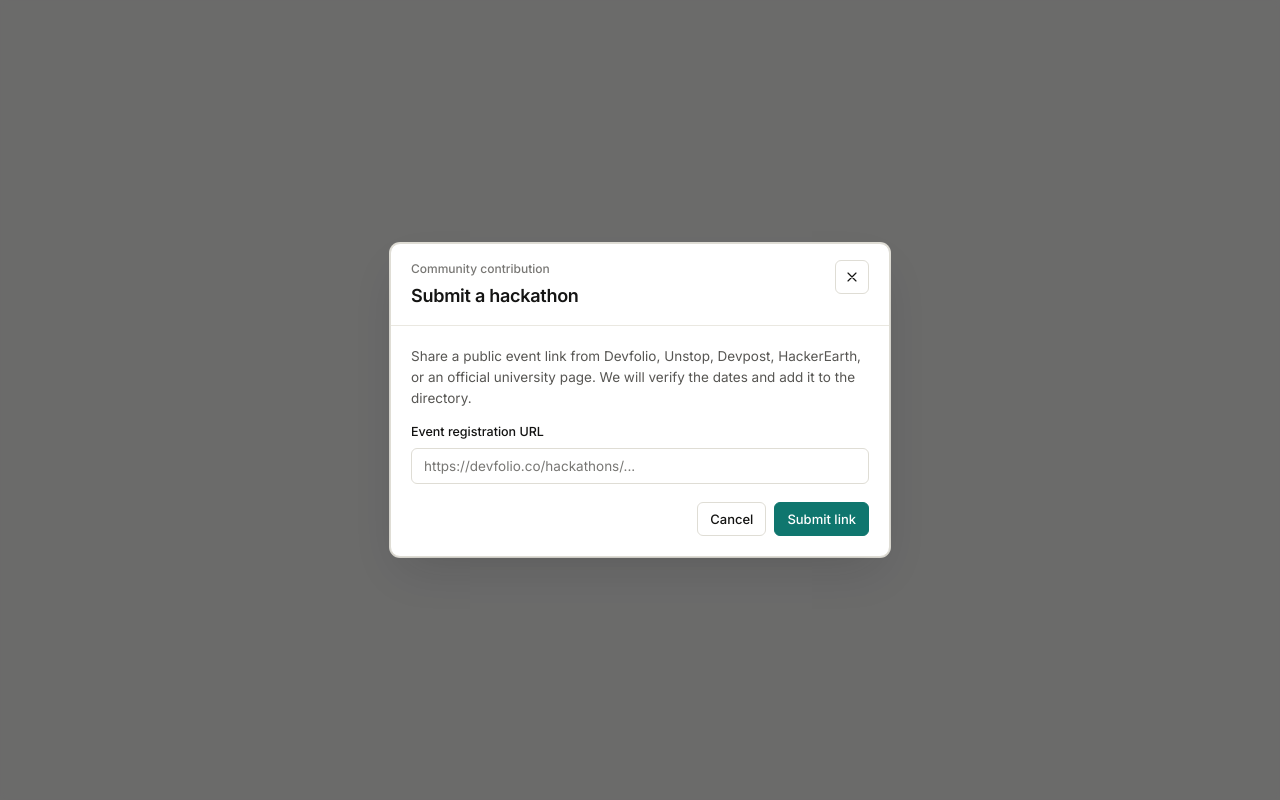
Scenario: AutoListModal Component › submits valid URL to auto-list endpoint and displays success message
In the field with placeholder "https://devfolio.co/hackathons/...": (640, 466) [411,448,869,484], type "https://devfolio.co/hackathons/example"
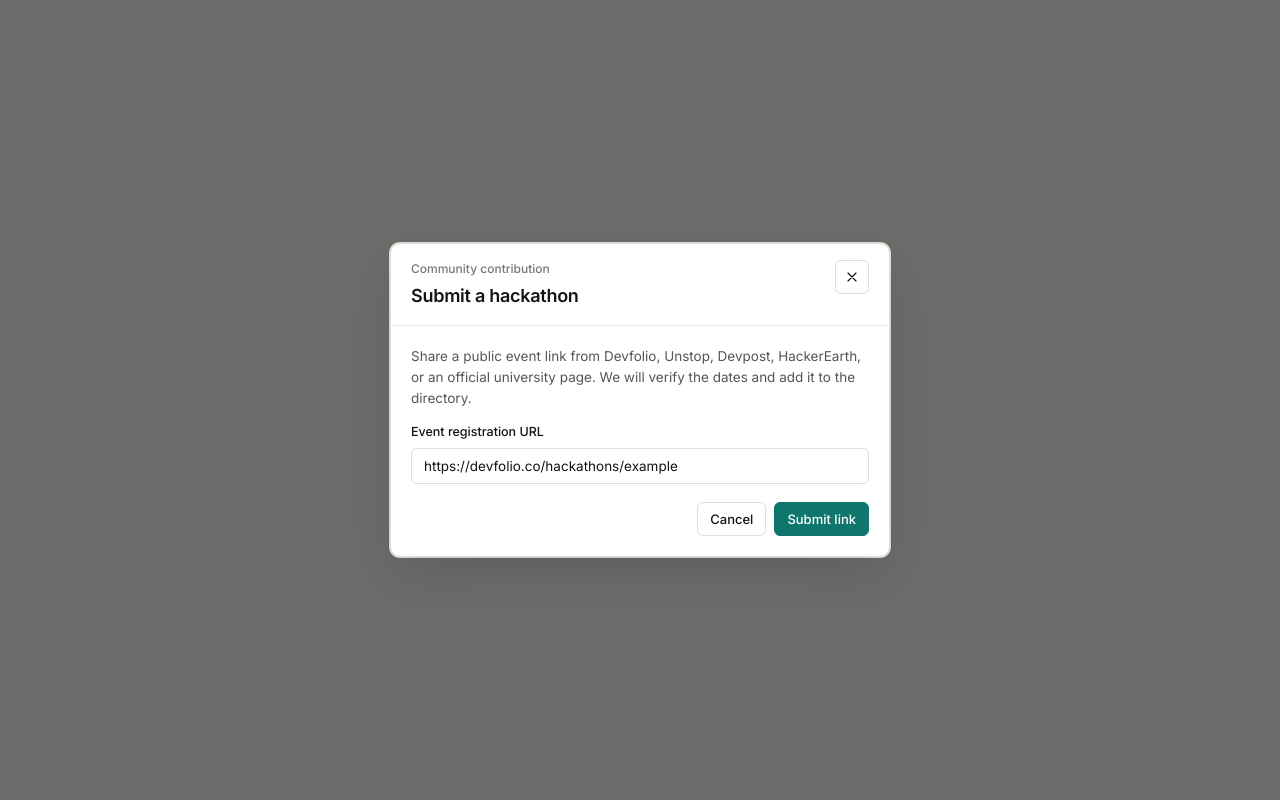
Submit the form, box [411,346,869,536]
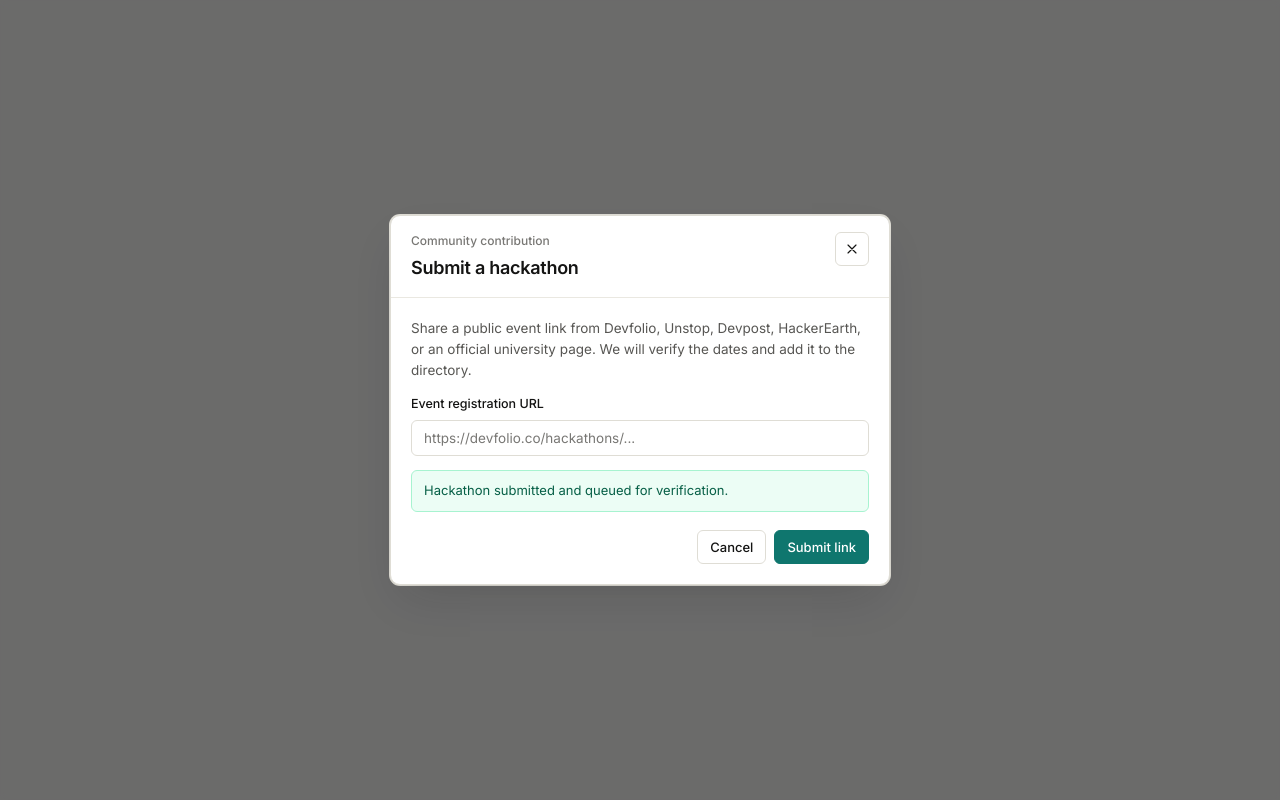
Result: the text "Hackathon submitted and queued for verification." is shown at [411,470,869,512]
